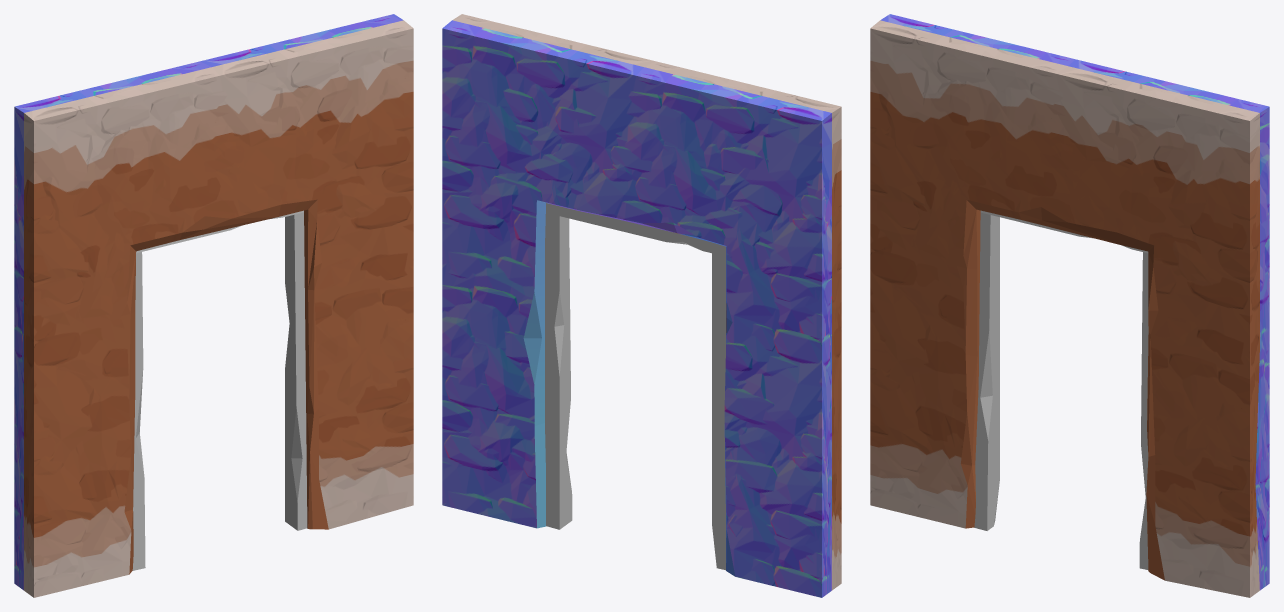
Rendered from SM_Bld_Wall_Door_01.fbx.
3 views of the same model, side by side, from view 1: azimuth 30°, elevation 25°; view 2: azimuth 150°, elevation 25°; view 3: azimuth 330°, elevation 25° (orthographic).
Visible parts, largest first — view 1: SM_Bld_Wall_Door_01; view 2: SM_Bld_Wall_Door_01; view 3: SM_Bld_Wall_Door_01.
Part boxes in pixels (x1,y1,x2,y2): SM_Bld_Wall_Door_01: [14, 14, 413, 597]; SM_Bld_Wall_Door_01: [442, 14, 841, 597]; SM_Bld_Wall_Door_01: [870, 14, 1269, 597].
Bounding box in the file's own units: 250 × 303 × 23.81.
